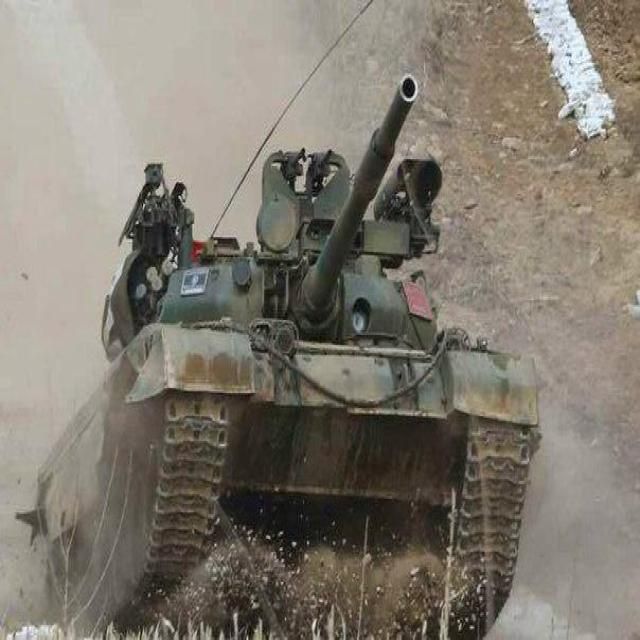north tank: (20, 69, 551, 640)
